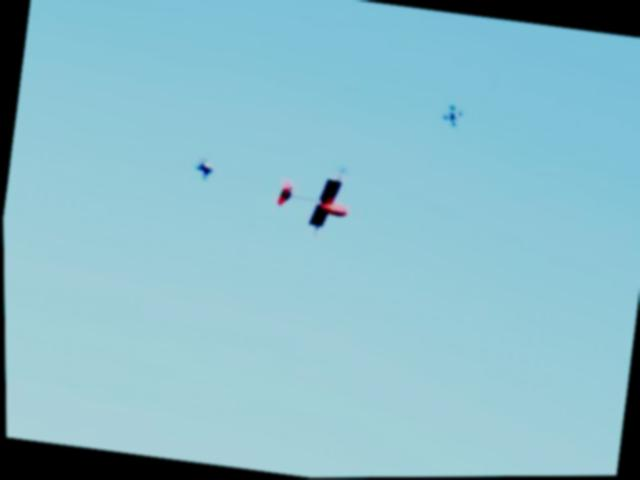uav: (265, 153, 375, 247)
